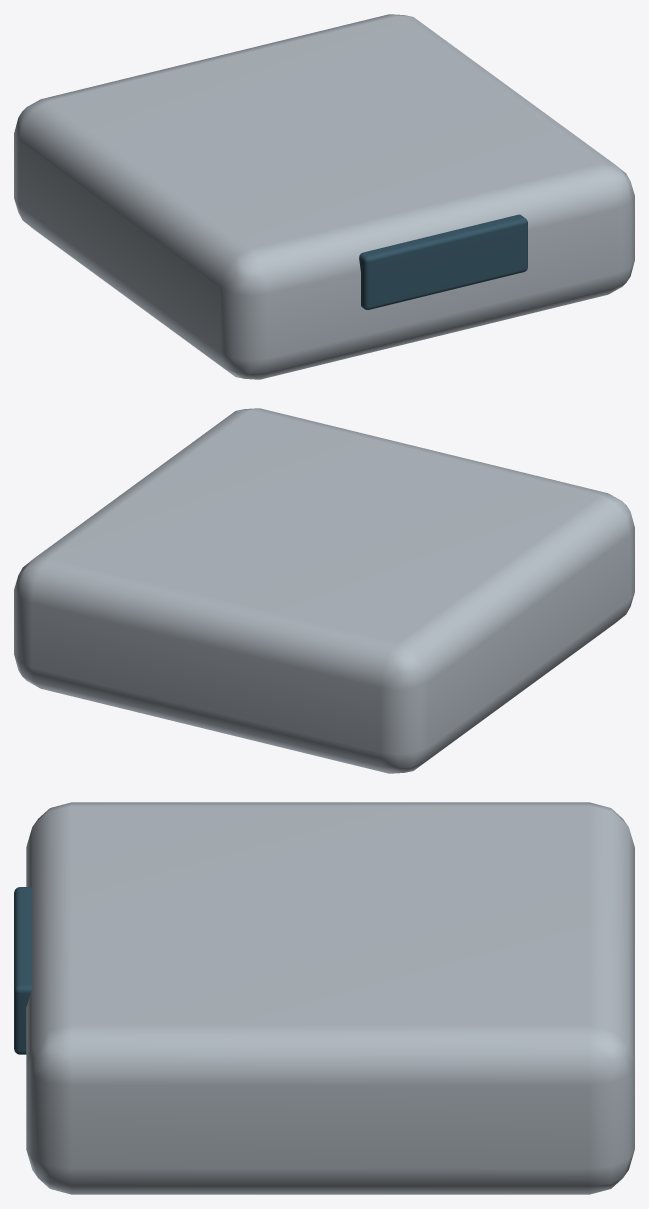
The model's file is atelier-kitchen-scale.glb.
3 views of the same model, one above another, from view 1: azimuth 30°, elevation 25°; view 2: azimuth 150°, elevation 25°; view 3: azimuth 270°, elevation 25° (orthographic). The views are drawn at different scales.
Visible parts, largest first — view 1: steel.016, screen.003; view 2: steel.016; view 3: steel.016, screen.003.
Boxes of the visible parts, x1,y1,x2,y2 form: steel.016: [14, 14, 634, 379]; screen.003: [359, 214, 527, 309]; steel.016: [14, 408, 634, 773]; steel.016: [26, 802, 634, 1194]; screen.003: [14, 887, 32, 1054].
Size of the model in its own units: 0.2 by 0.06 by 0.204.
